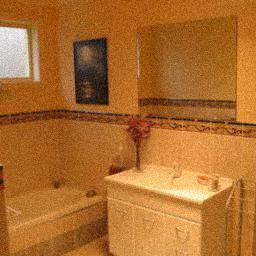Lavamanos: (142, 161, 201, 198)
